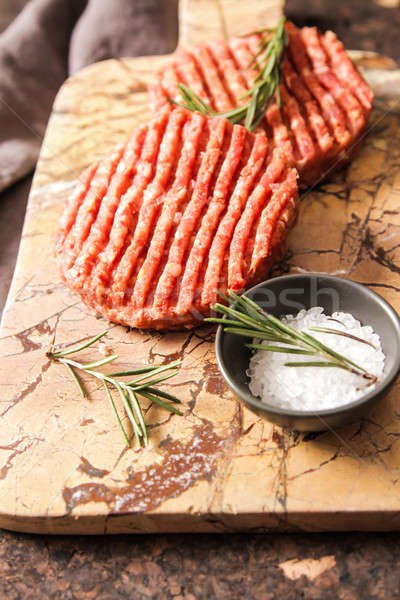ground_beef: (38, 110, 292, 289), (146, 17, 367, 177)
